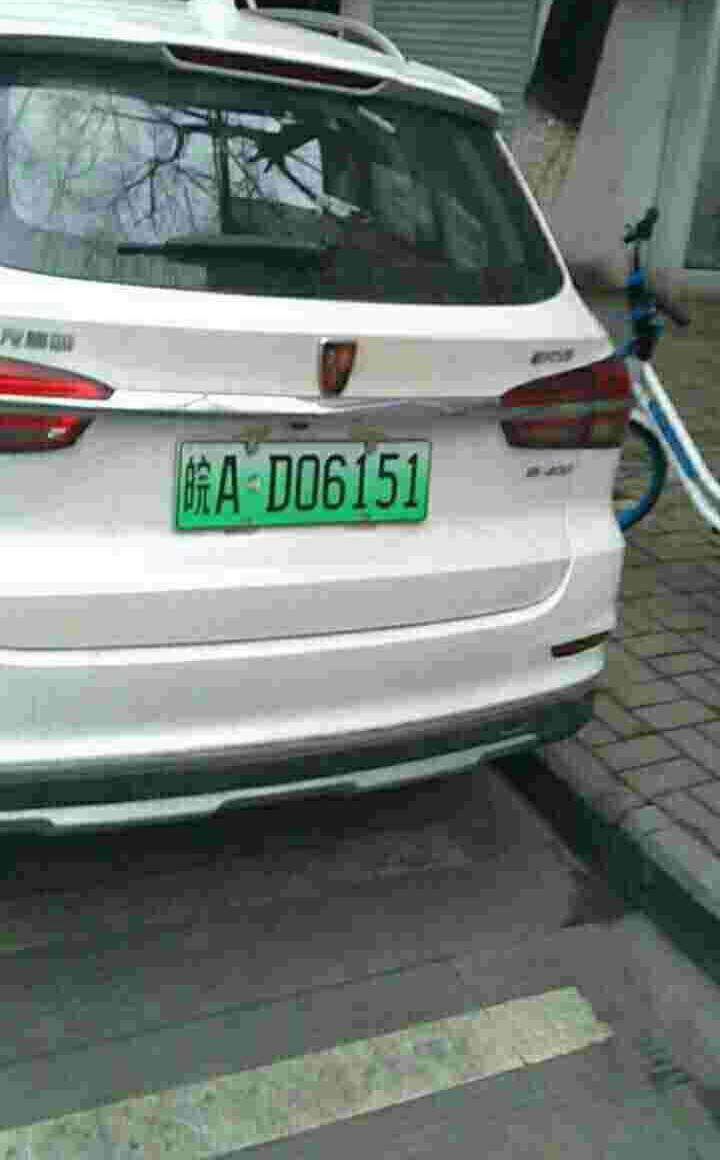car_id: (177, 441, 429, 527)
